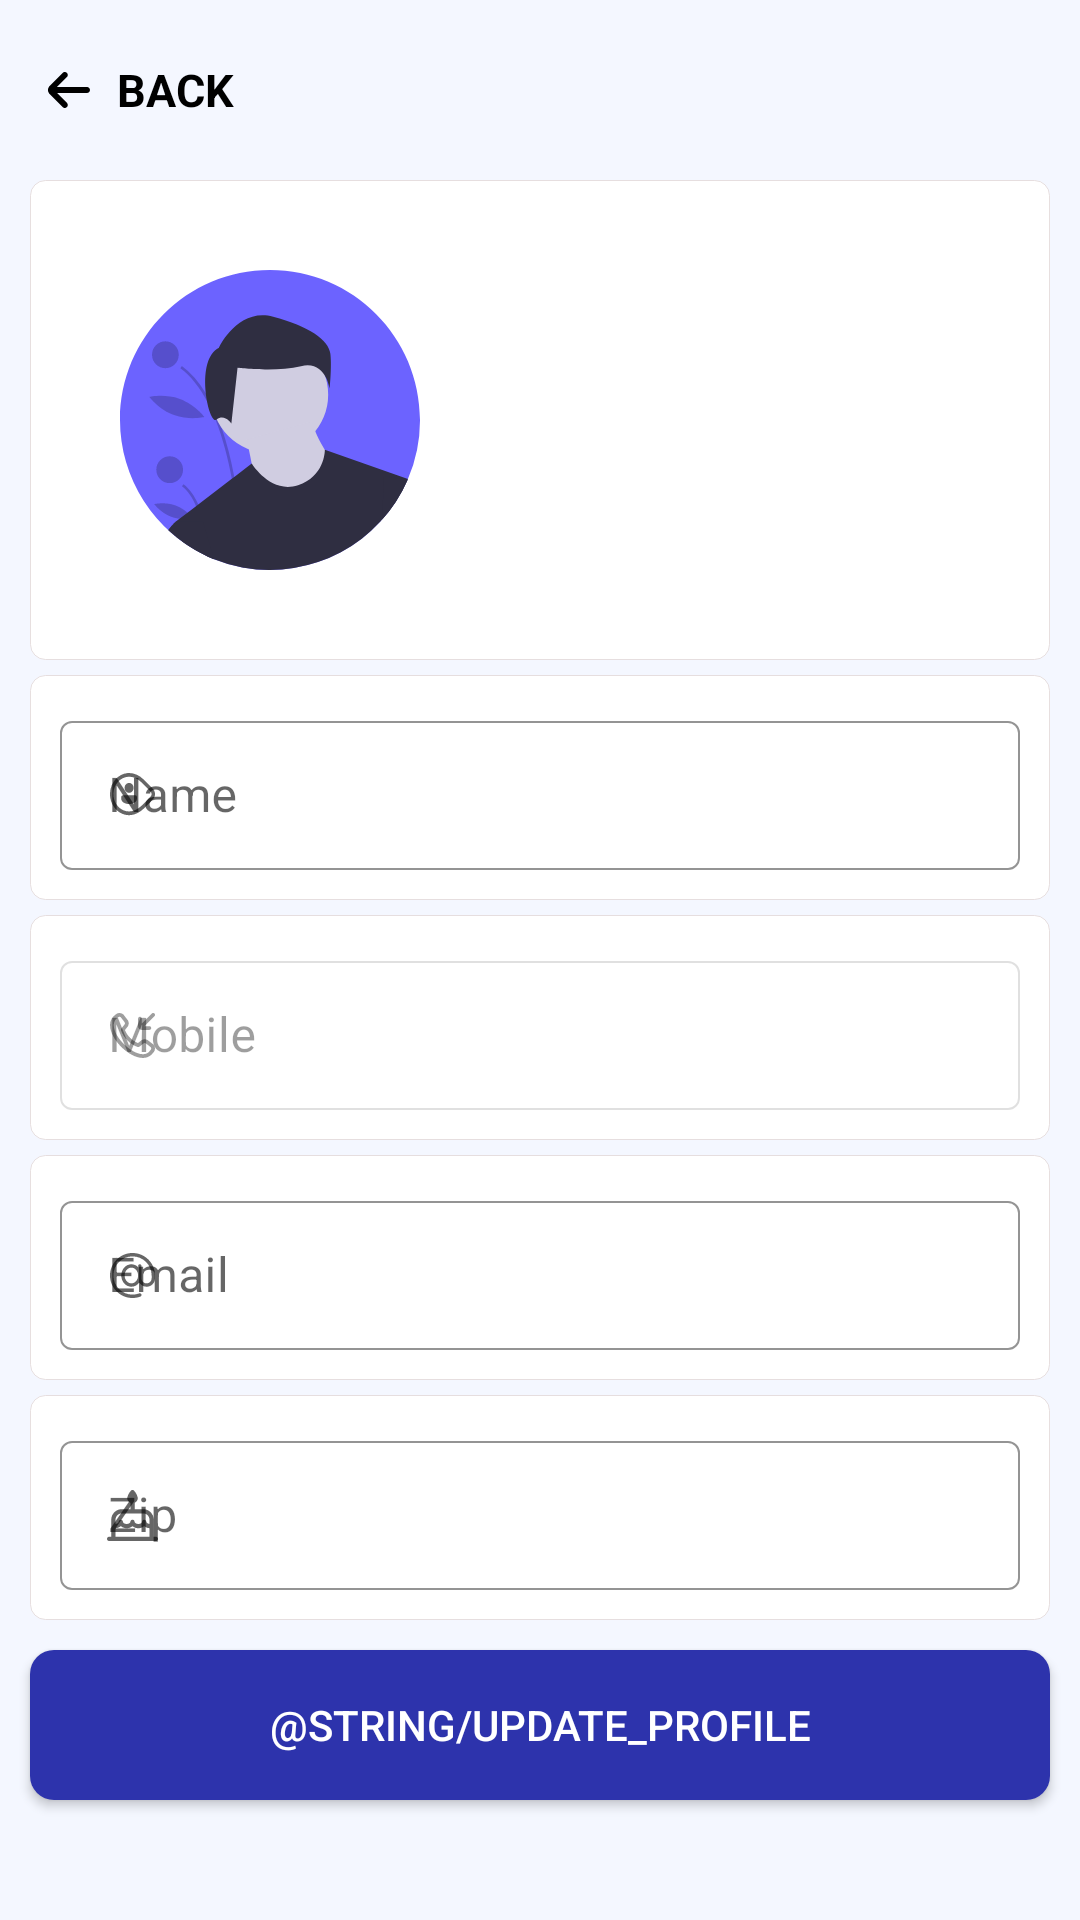

Icons on this 1080 × 1920 Android screen, each with the point to tap as (x,y):
avtar: (270,420)
